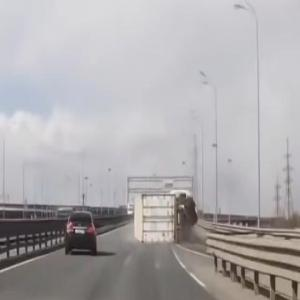severe: (129, 183, 199, 249)
